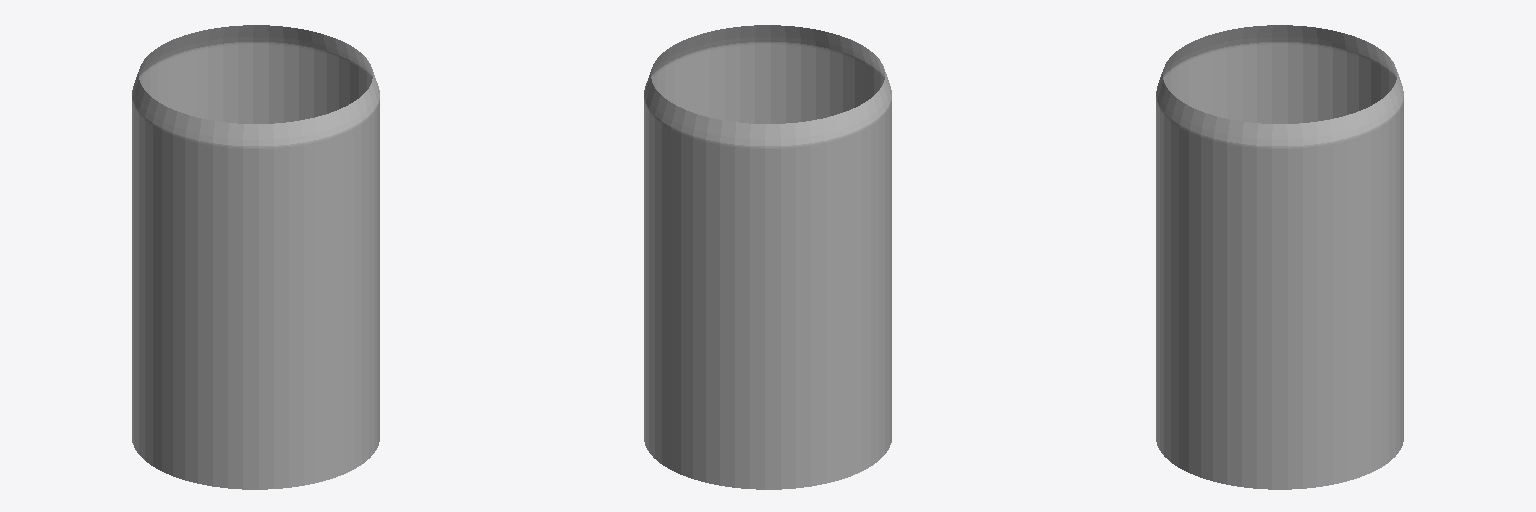
File: duffmiddle_004.obj
3 renders of one model, left to right at view 1: azimuth 30°, elevation 25°; view 2: azimuth 150°, elevation 25°; view 3: azimuth 270°, elevation 25°, orthographic.
Visible parts, largest first — view 1: duffmiddle.004; view 2: duffmiddle.004; view 3: duffmiddle.004.
Boxes of the visible parts, <box> form: duffmiddle.004: <box>132,25,379,489</box>; duffmiddle.004: <box>644,25,891,489</box>; duffmiddle.004: <box>1156,25,1403,489</box>.
Size of the model in its own units: 180 by 290 by 180.